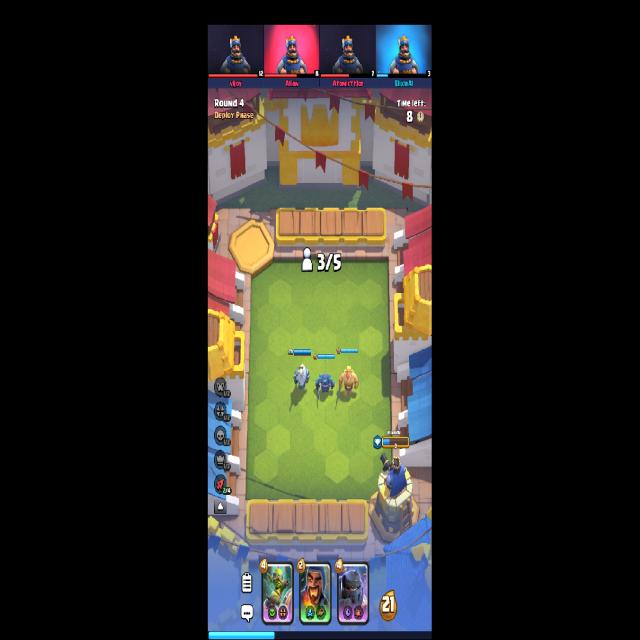card_goblin_machine: (261, 561, 294, 624)
card_mega_knight: (336, 562, 369, 626)
card_wizard: (298, 561, 332, 624)
golden_knight: (339, 366, 359, 398)
mini_pekka: (315, 374, 335, 402)
royal_ghost: (292, 363, 310, 391)
